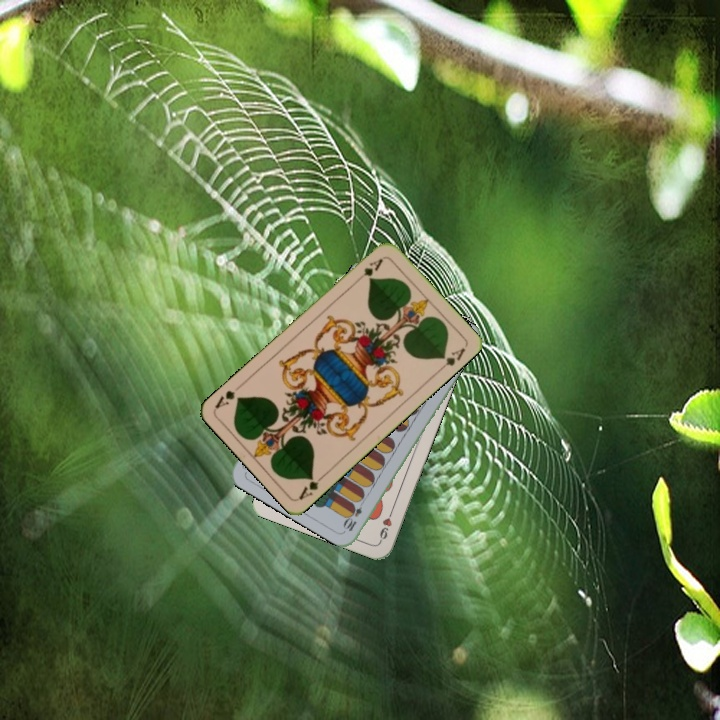E10: (340, 495, 367, 534)
GA: (295, 469, 328, 502), (359, 254, 386, 281)
H9: (375, 506, 396, 545)
